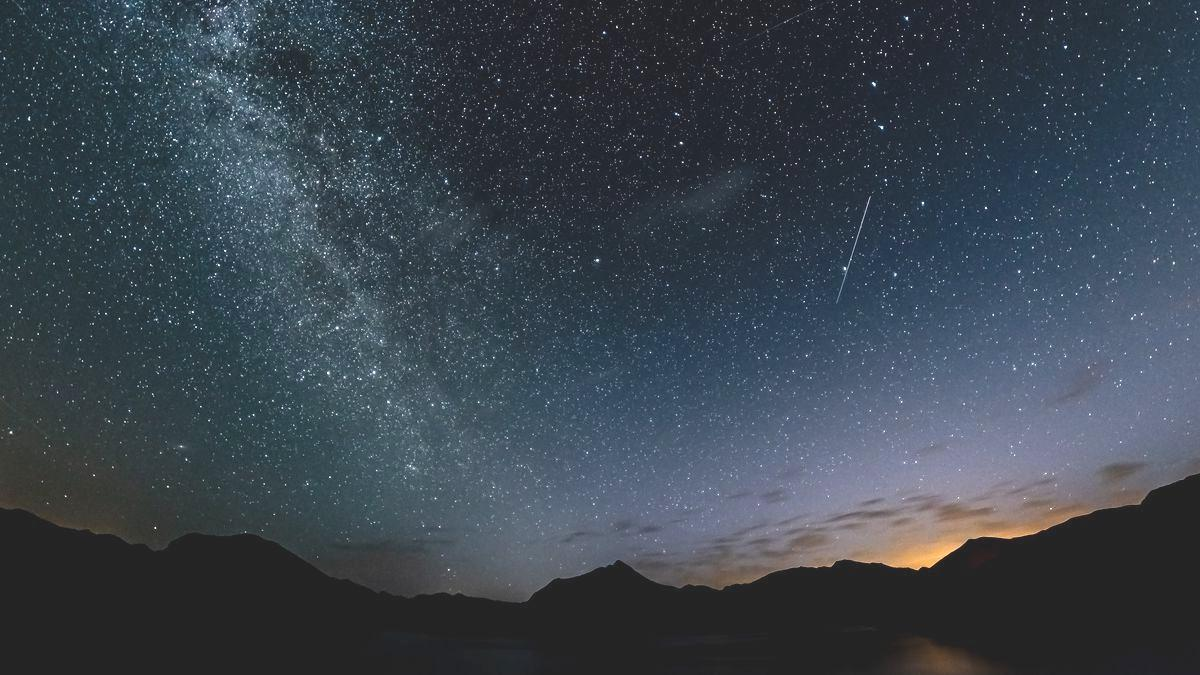meteorite: (799, 183, 888, 335)
